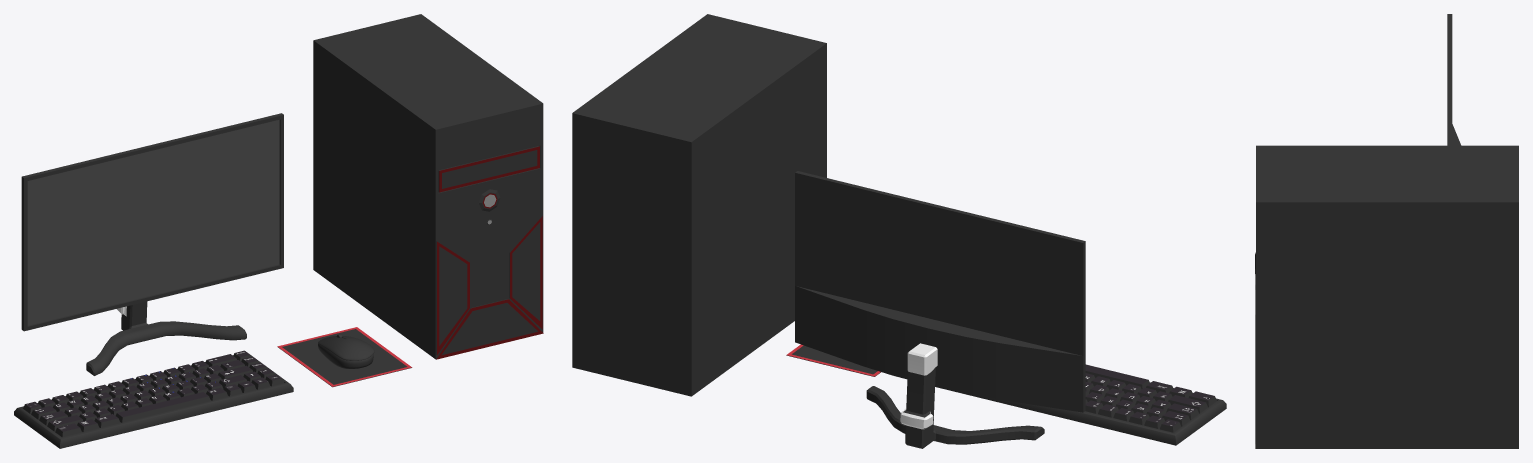
File: Komputer.fbx
3 renders of one model, left to right at view 1: azimuth 30°, elevation 25°; view 2: azimuth 150°, elevation 25°; view 3: azimuth 270°, elevation 25°, orthographic. The views are drawn at different scales.
Parts seen in each view (by area): view 1: Cpu, Screen, Keyboard, MousePad, Mouse; view 2: Cpu, Screen, Keyboard, MousePad; view 3: Cpu, Screen.
Boxes of the visible parts, <box> form: Cpu: <box>313,14,543,359</box>; Screen: <box>21,113,283,375</box>; Keyboard: <box>14,350,293,448</box>; MousePad: <box>277,327,412,387</box>; Mouse: <box>318,334,374,368</box>; Cpu: <box>572,14,826,396</box>; Screen: <box>795,171,1085,448</box>; Keyboard: <box>935,364,1226,445</box>; MousePad: <box>786,344,880,376</box>; Cpu: <box>1255,145,1518,448</box>; Screen: <box>1447,14,1461,145</box>.
Bounding box in the file's own units: 119 × 56.19 × 53.28.
Materials: 8 (1 with a texture image).
